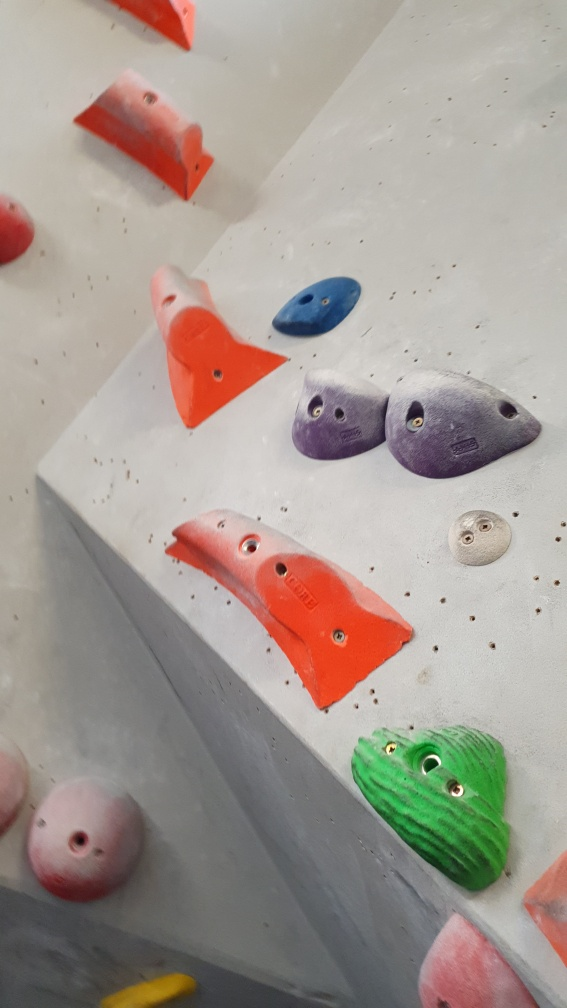Crimp: (273, 272, 364, 340)
Jug: (351, 719, 517, 894), (384, 373, 545, 486), (288, 365, 396, 461)
Pinch: (164, 496, 419, 709), (146, 257, 290, 427), (74, 67, 220, 203)
Sloper: (26, 777, 149, 899)
